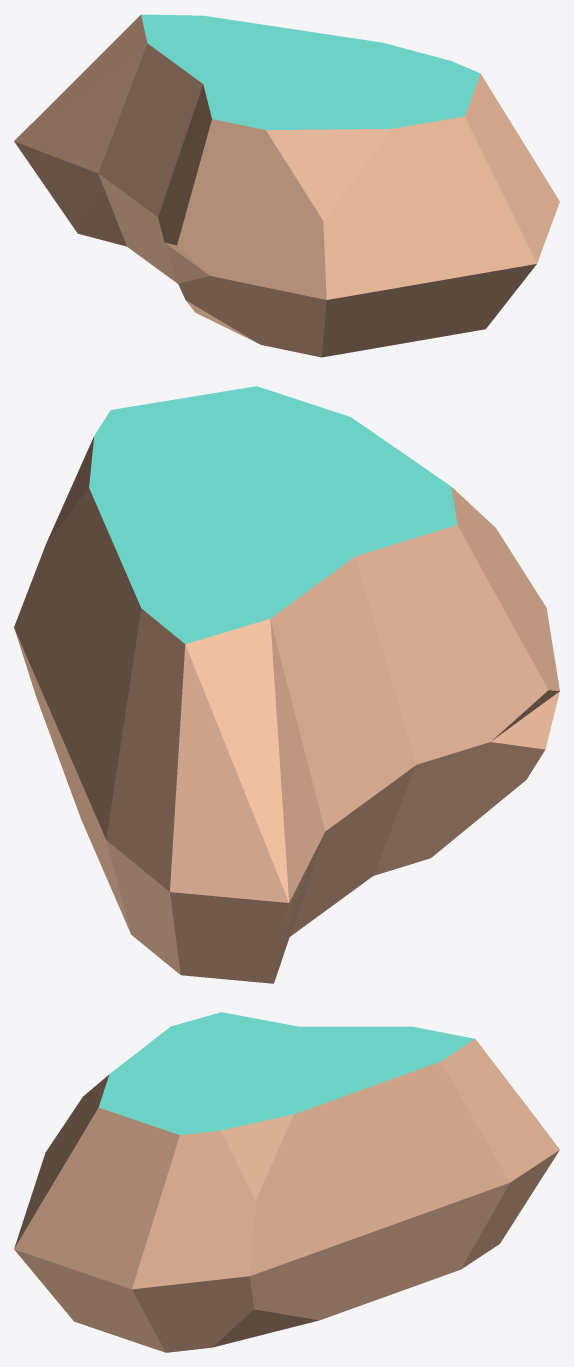
Rendered from rock_largeB.gltf.
3 views of the same model, one above another, from view 1: azimuth 30°, elevation 25°; view 2: azimuth 150°, elevation 25°; view 3: azimuth 270°, elevation 25° (orthographic). The views are drawn at different scales.
Parts seen in each view (by area): view 1: rock_largeB; view 2: rock_largeB; view 3: rock_largeB.
Part boxes in pixels (x1=…): rock_largeB: x1=14, y1=14, x2=559, y2=357; rock_largeB: x1=14, y1=386, x2=559, y2=983; rock_largeB: x1=14, y1=1012, x2=559, y2=1352.
Size of the model in its own units: 0.7667 by 0.4303 by 1.02.
